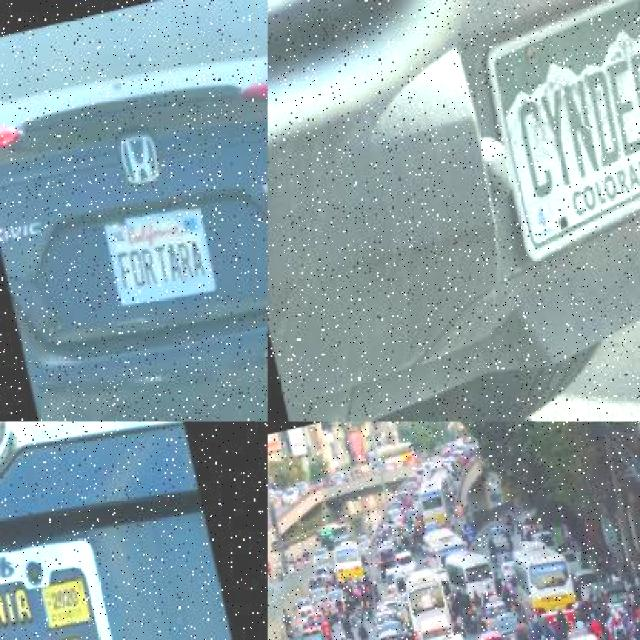licenseplate: (485, 0, 640, 263), (0, 515, 175, 639), (104, 198, 219, 310), (616, 604, 626, 616), (587, 584, 595, 594), (509, 632, 518, 640)
